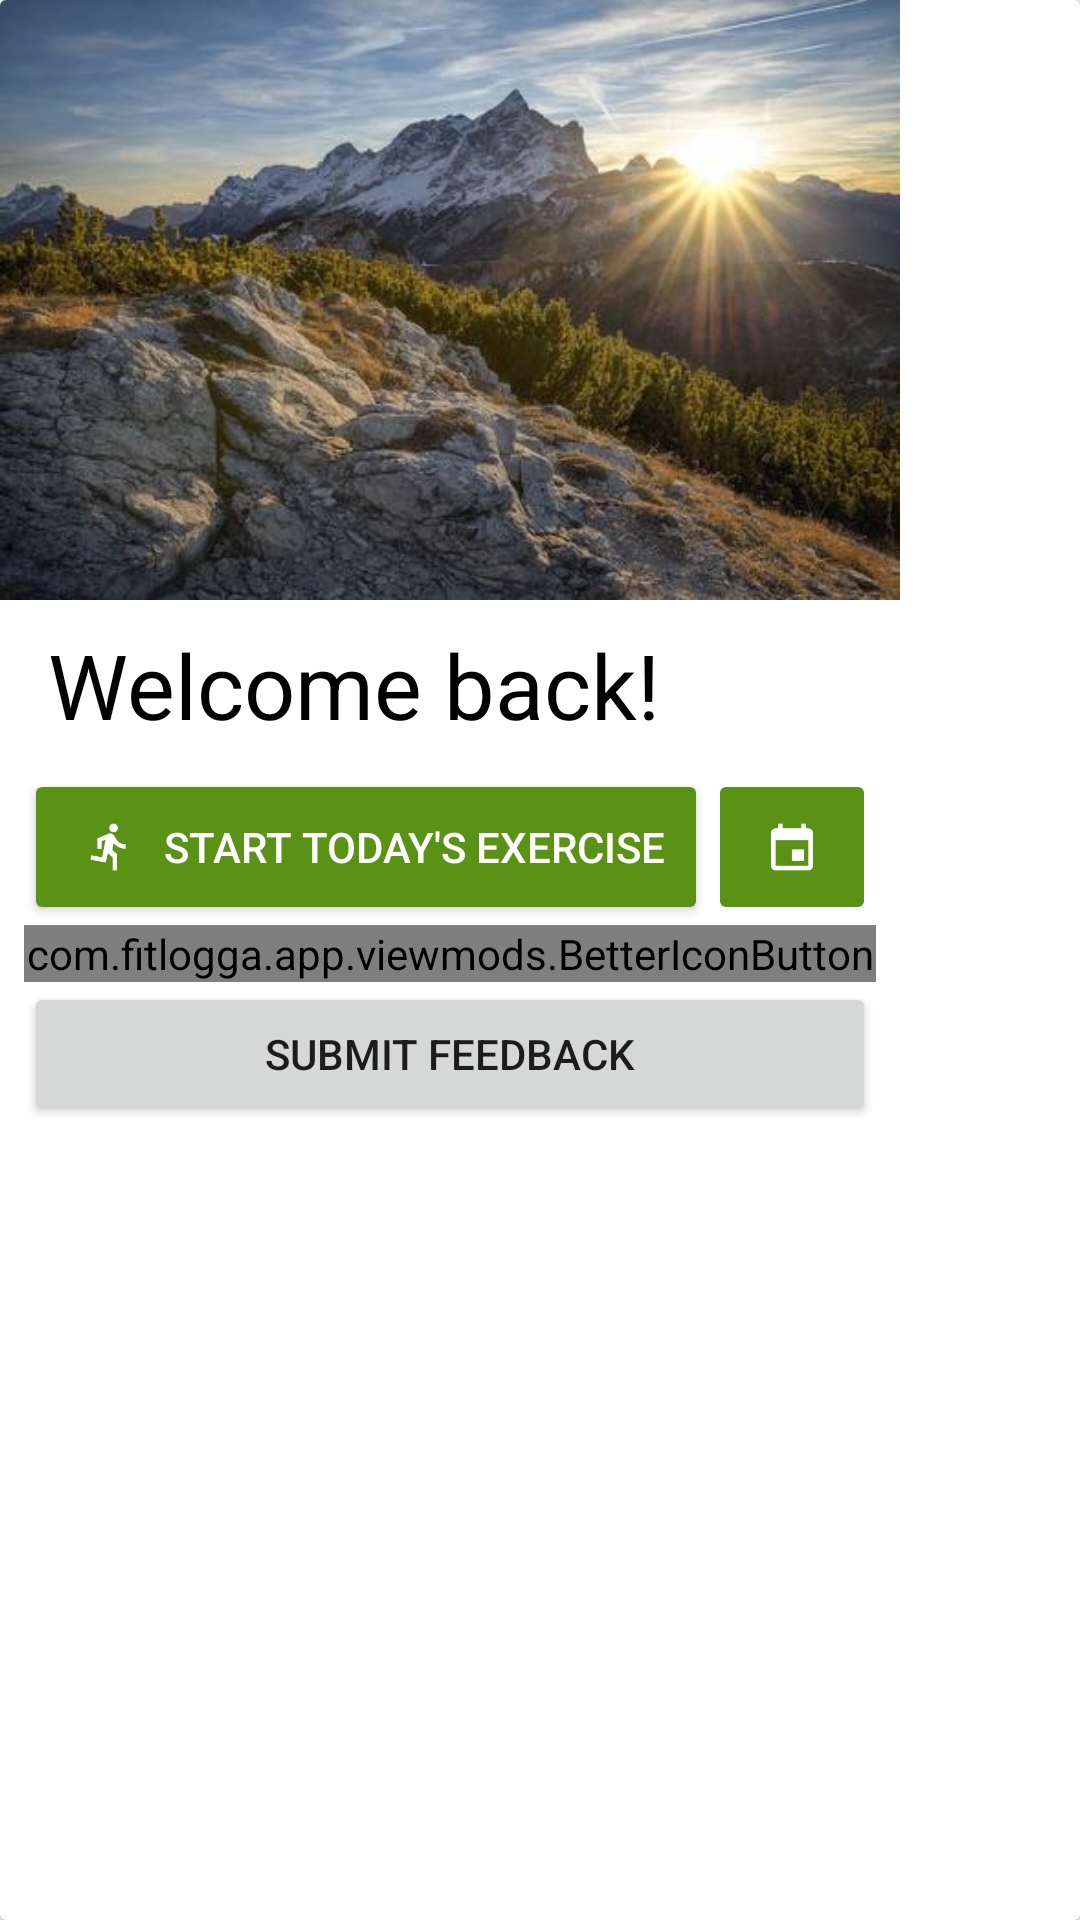

Icons on this 1080 × 1920 Android screen, each with its box as region(x1, y1, x2, y2):
event: region(720, 787, 864, 907)
